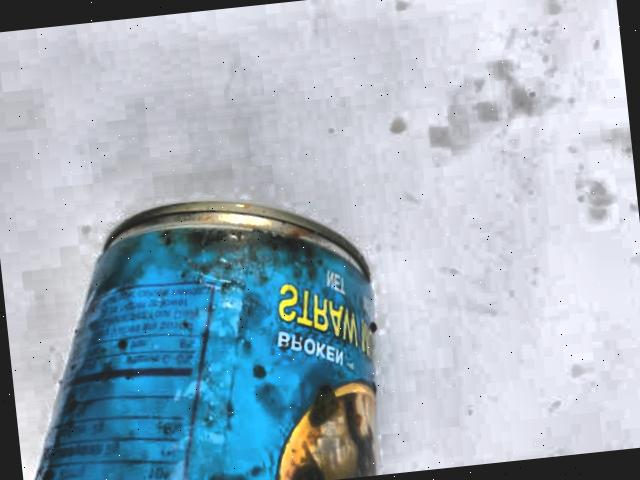Almennt: (8, 159, 394, 480)
